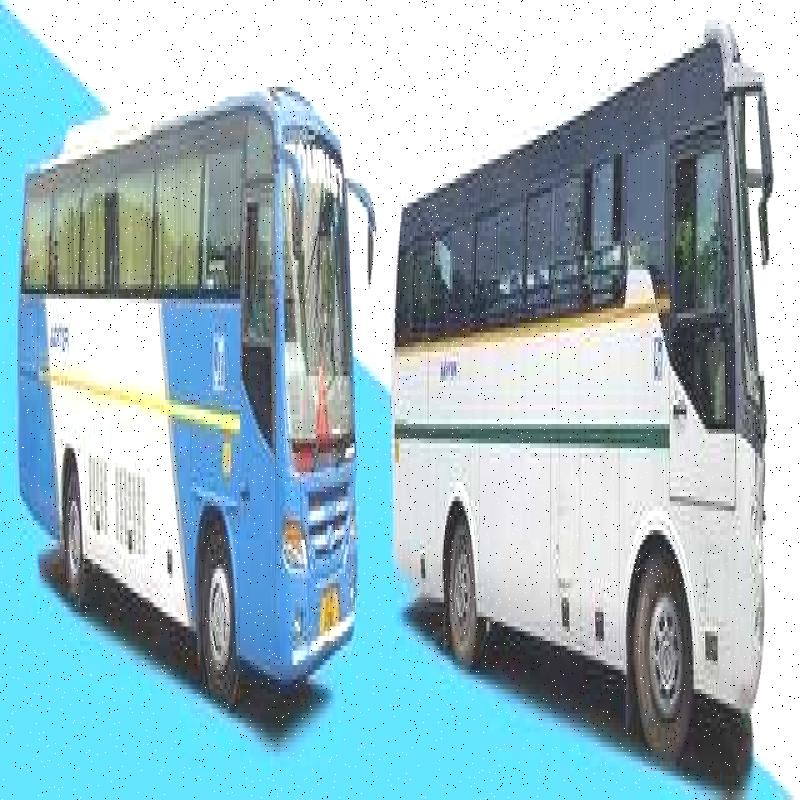bus: (389, 97, 770, 784), (17, 100, 362, 743)
